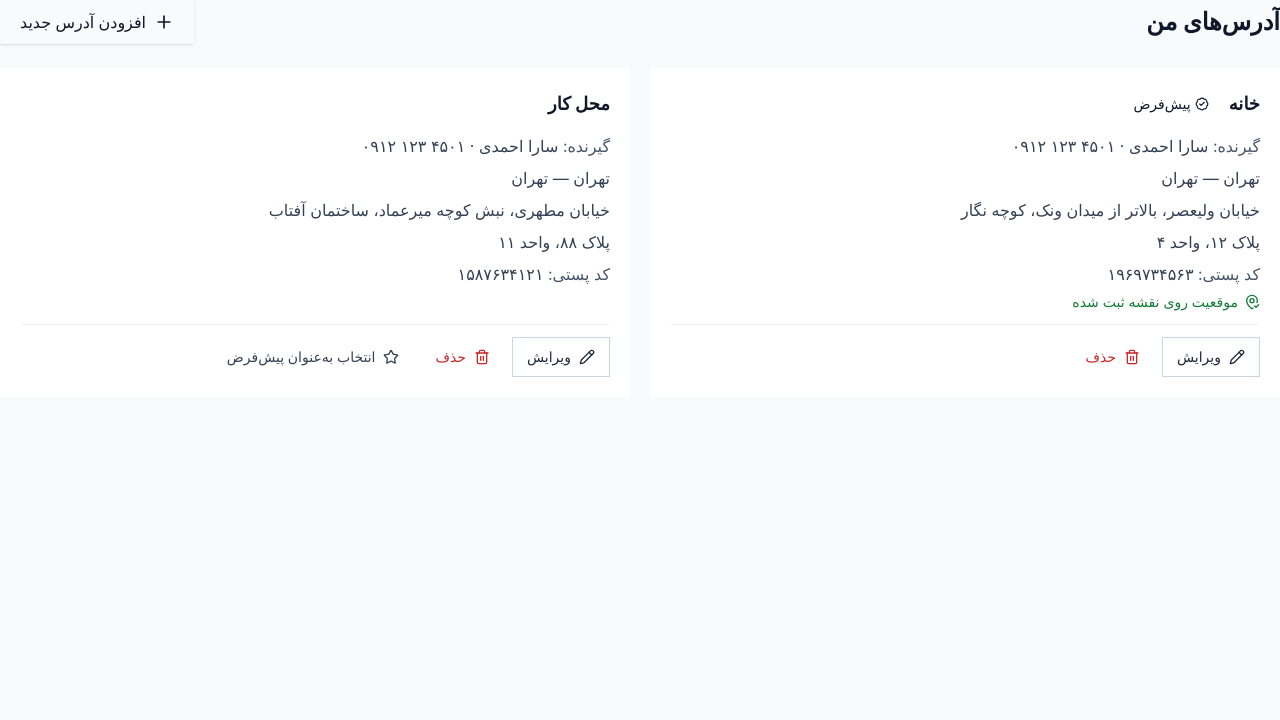
AddressList › deletes after the question; the book and the cart read again; the new default is said
The image size is (1280, 720).
Later steps or results of the test are not shown.
Click the button named "حذف آدرس خانه": (1113, 357) x1=1072 y1=337 x2=1154 y2=377
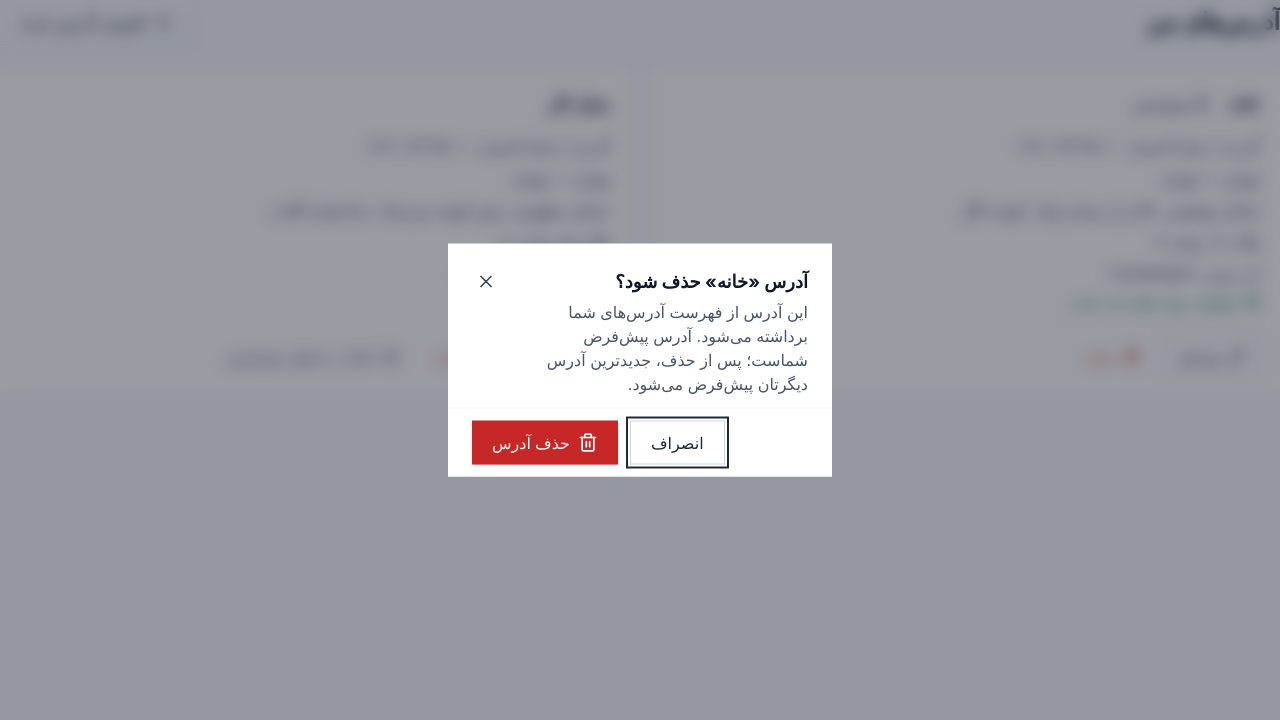
Check: the dialog "آدرس «خانه» حذف شود؟" shows "جدیدترین آدرس دیگرتان پیش‌فرض می‌شود", box x1=547 y1=302 x2=808 y2=394
